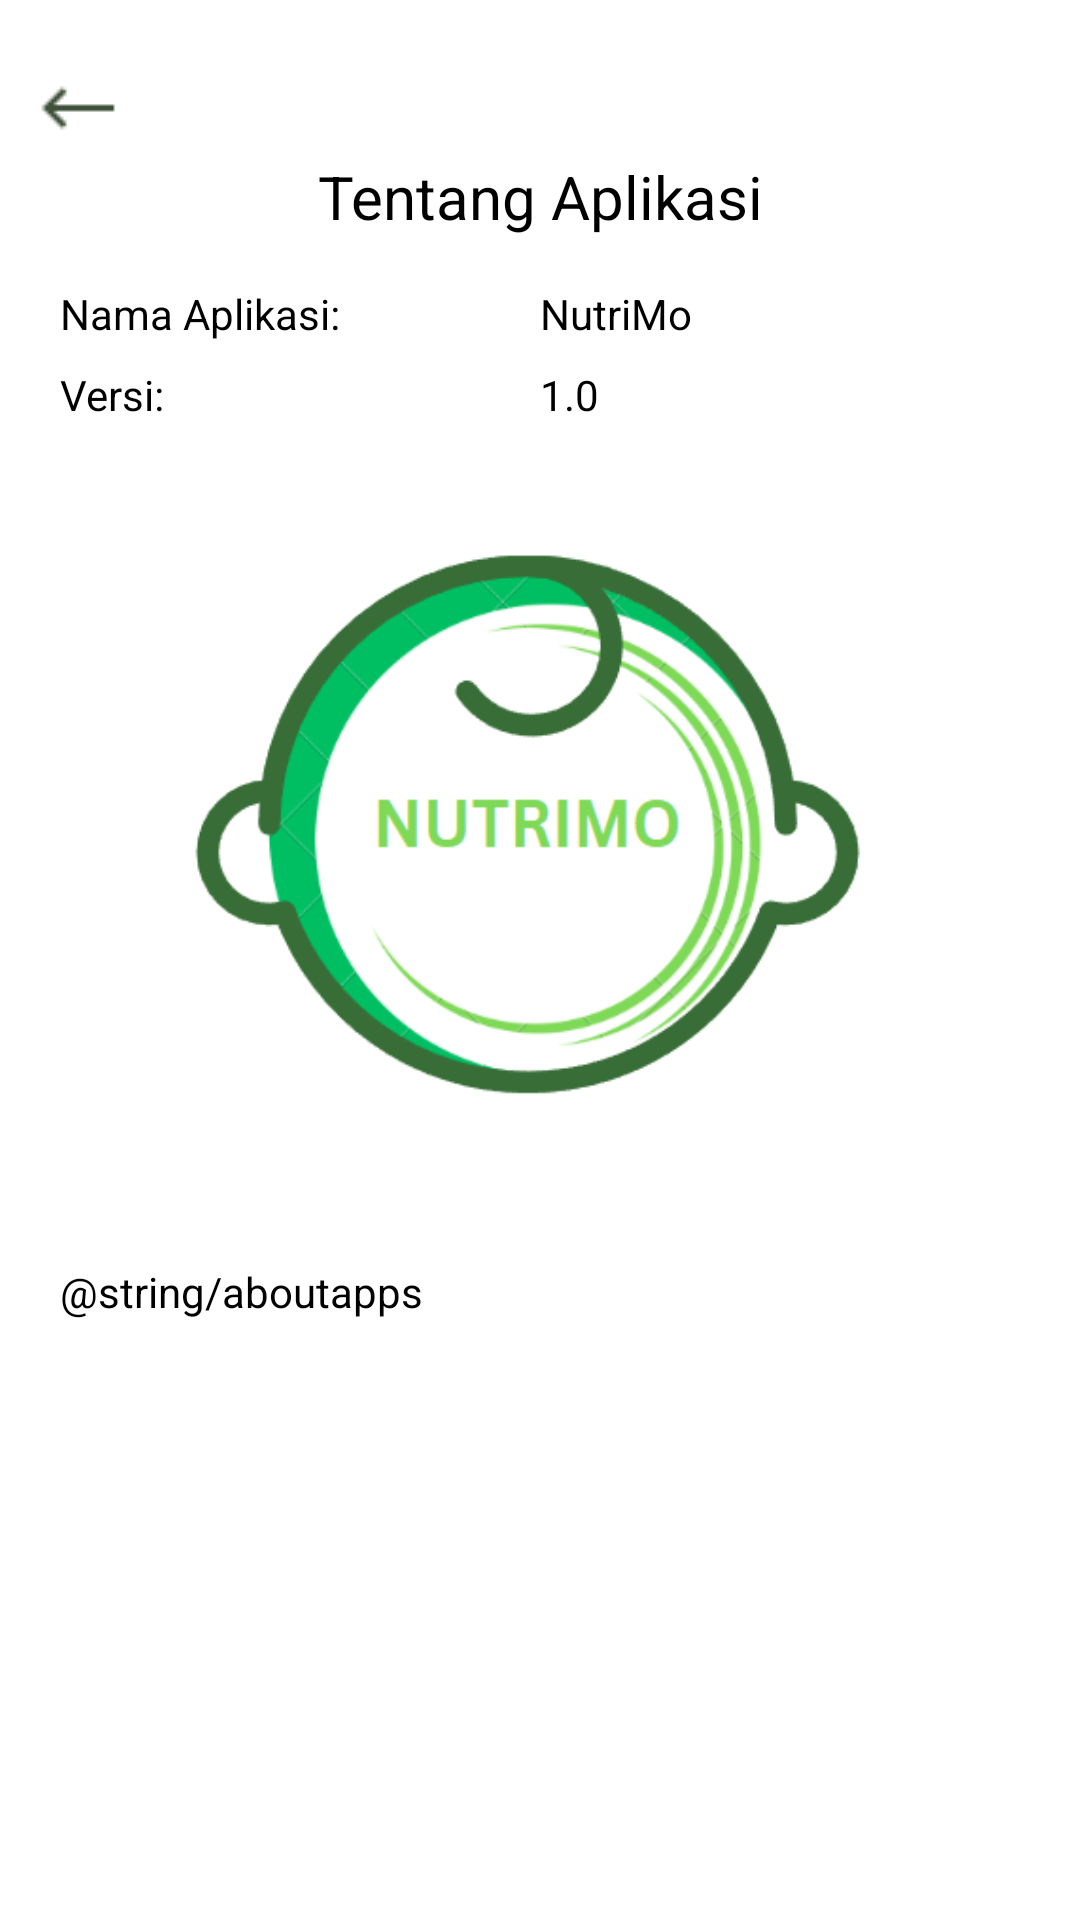

Named icons in this screenshot (1080x1920) and their centers, [x,y]:
left arrow: [78,108]
